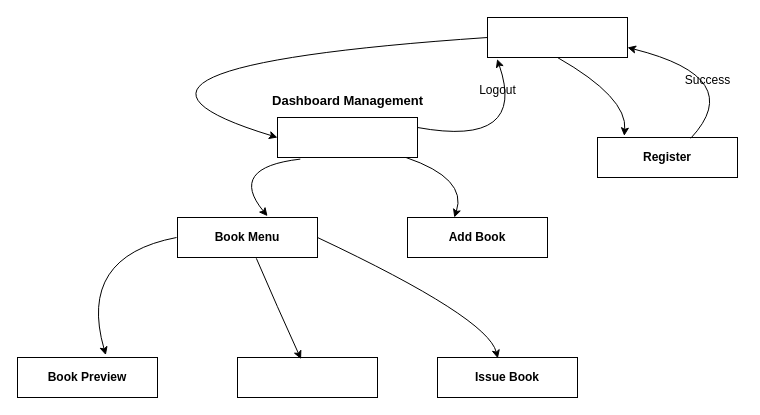
This 760x415 diagram has some shape labels left out. The shapes that lost their labels are listed below. From the top down, each one's centre as x and y in pixels, then its label:
At point 557,37: "Login (Index)".
At point 347,137: "Dashboard".
At point 307,377: "Edit Book".
